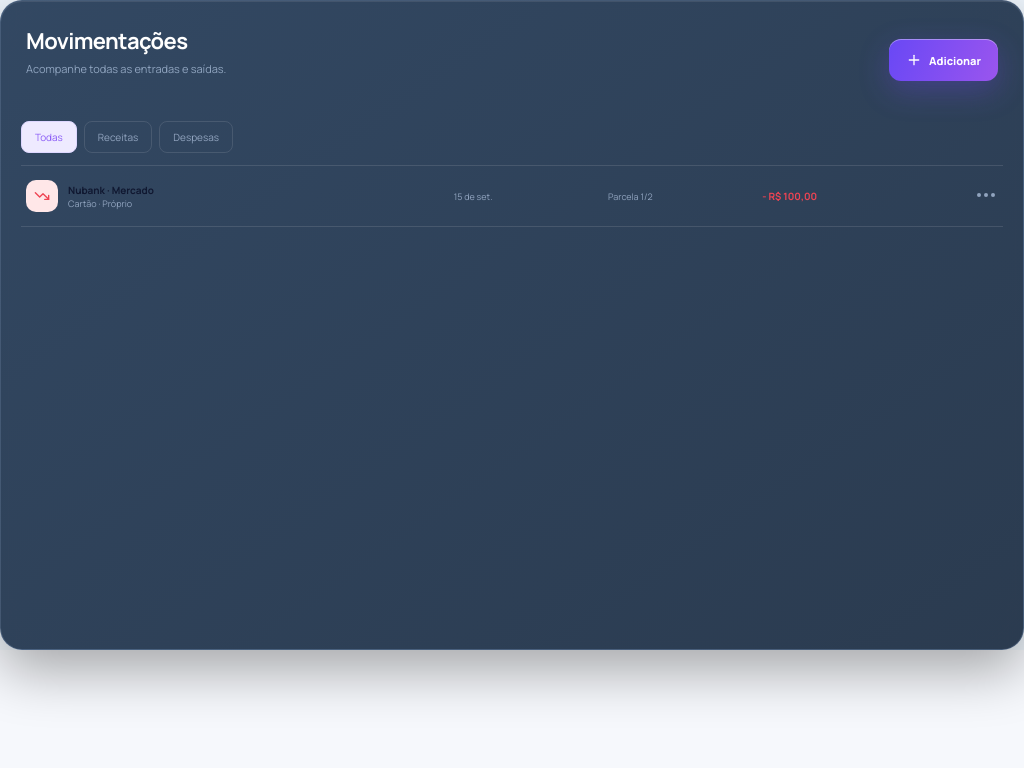
Test case: tela unificada de movimentações › abre o editor correto para uma compra de cartão
Step 1. Click the button named "Editar movimentação" → (983, 196), box [968,182,998,210]
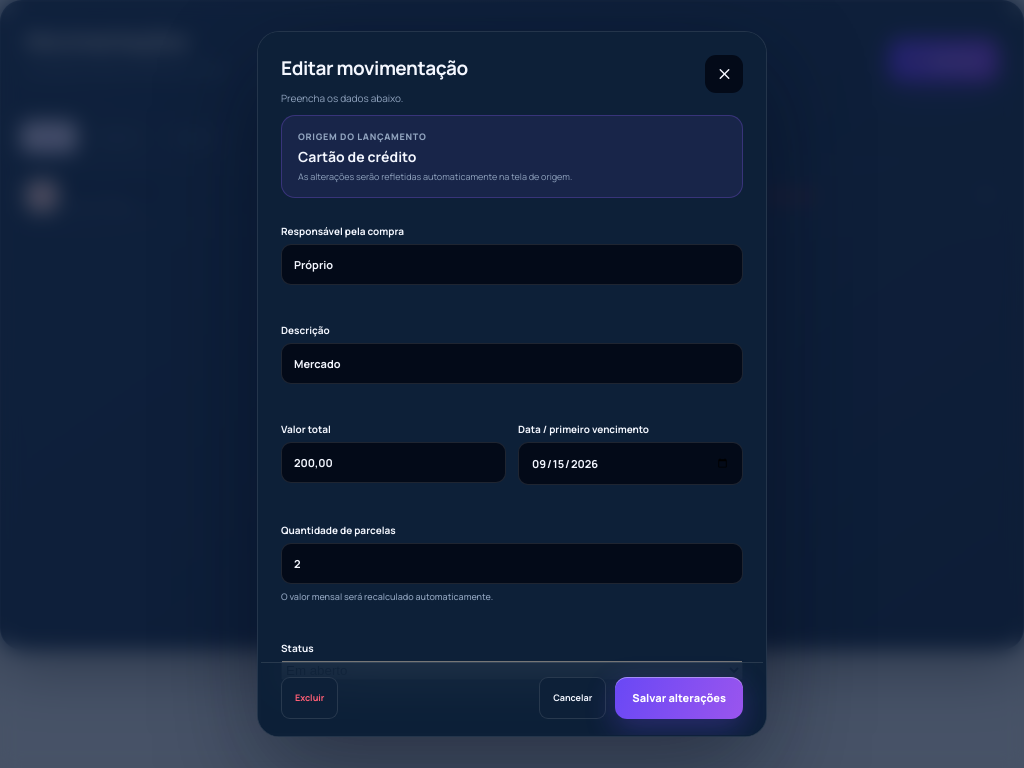
expect the heading "Editar movimentação" is shown: met, box [281,55,468,81]
expect the text "Cartão de crédito" is shown: met, box [298,147,416,166]
expect the field showing "Mercado" is shown: met, box [281,343,743,384]
